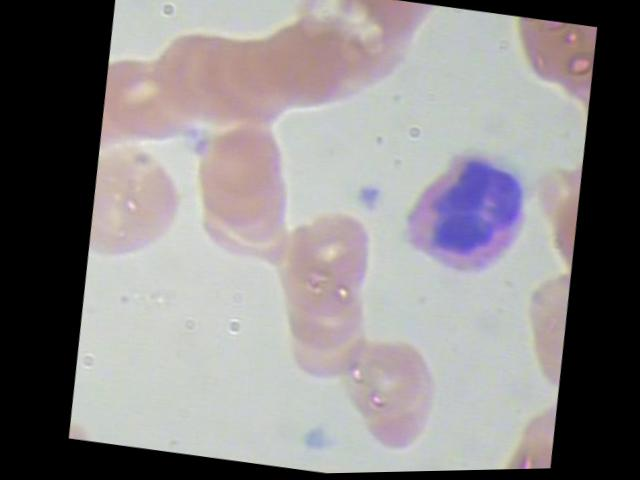Platelets: (349, 180, 383, 215), (294, 424, 328, 459)
Red Blood Cells: (78, 133, 199, 287), (326, 326, 442, 460), (273, 201, 387, 309), (257, 14, 361, 123), (96, 50, 206, 153), (196, 117, 297, 215), (277, 272, 367, 364), (496, 16, 599, 95)
White Blood Cells: (383, 133, 538, 296)
